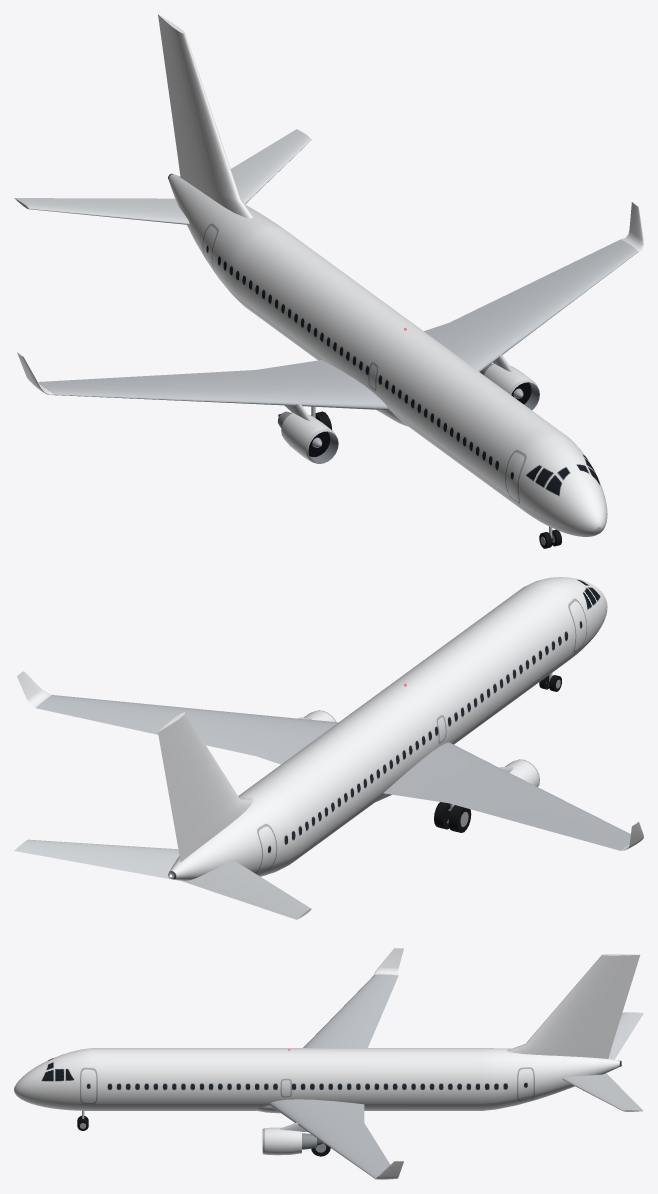
The picture shows the model from 3 angles, top to bottom: view 1: azimuth 30°, elevation 25°; view 2: azimuth 150°, elevation 25°; view 3: azimuth 270°, elevation 25°; orthographic projection. The views are drawn at different scales.
Parts seen in each view (by area): view 1: body; view 2: body, gear; view 3: body, gear.
Part boxes in pixels (<box>): body: <box>14,14,643,536</box>; body: <box>14,577,643,919</box>; gear: <box>434,673,561,832</box>; body: <box>14,948,643,1179</box>; gear: <box>77,1110,330,1156</box>.
Bounding box in the file's own units: 26.32 × 10 × 32.85.
Materials: 19 (1 with a texture image).
